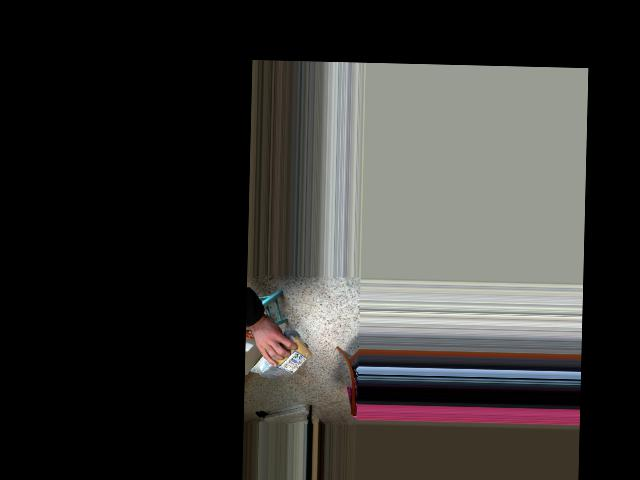cheese: (251, 333, 310, 378)
